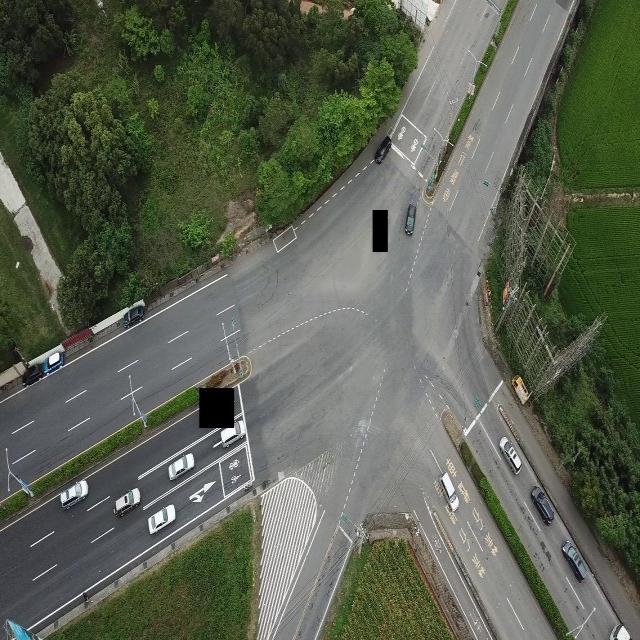car: (562, 539, 587, 582), (531, 485, 554, 523), (148, 503, 175, 535), (60, 478, 88, 508), (498, 436, 520, 474), (113, 488, 140, 517), (167, 452, 194, 481), (440, 472, 459, 511), (123, 298, 145, 328), (220, 422, 246, 447), (41, 349, 64, 375), (374, 133, 392, 163), (21, 362, 42, 384), (405, 203, 415, 235)
truck: (610, 624, 632, 639)
